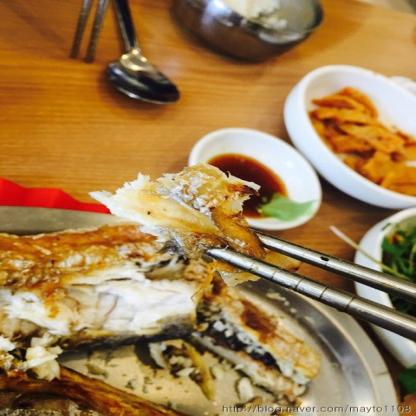Peixe: (0, 190, 320, 416)
